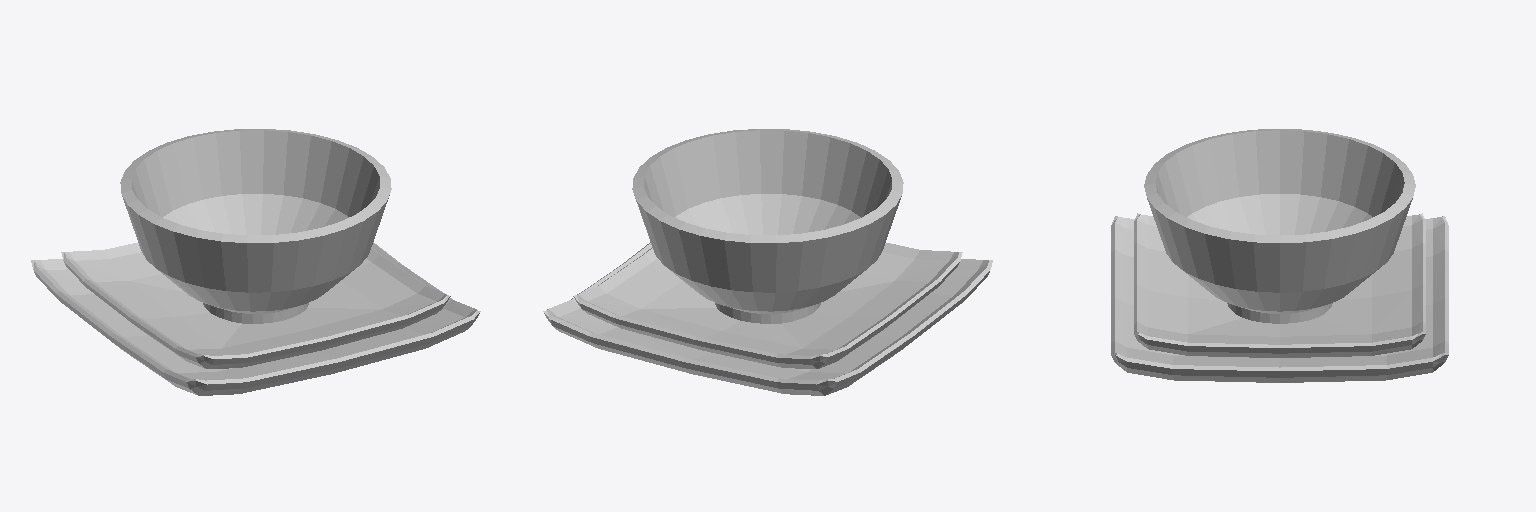
The model's file is Kitchen_Plates&Bowl1.obj.
The picture shows the model from 3 angles: view 1: azimuth 30°, elevation 25°; view 2: azimuth 150°, elevation 25°; view 3: azimuth 270°, elevation 25°; orthographic projection.
Parts seen in each view (by area): view 1: Bowl_Plane.002, Plate1_Plane.003, Plate2_Plane.001; view 2: Bowl_Plane.002, Plate1_Plane.003, Plate2_Plane.001; view 3: Bowl_Plane.002, Plate1_Plane.003, Plate2_Plane.001.
Part boxes in pixels (bbox=[...]): Bowl_Plane.002: bbox=[120, 129, 391, 323]; Plate1_Plane.003: bbox=[61, 243, 450, 368]; Plate2_Plane.001: bbox=[31, 242, 480, 395]; Bowl_Plane.002: bbox=[632, 129, 903, 323]; Plate1_Plane.003: bbox=[573, 243, 962, 368]; Plate2_Plane.001: bbox=[543, 242, 992, 395]; Bowl_Plane.002: bbox=[1144, 129, 1415, 323]; Plate1_Plane.003: bbox=[1134, 213, 1425, 357]; Plate2_Plane.001: bbox=[1111, 216, 1448, 382].
Size of the model in its own units: 2 by 0.9564 by 2.